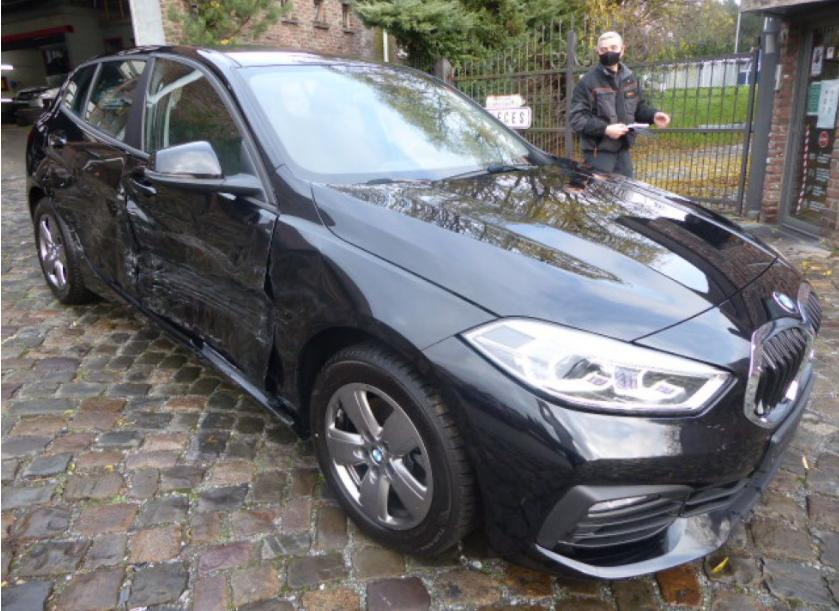Back-door: (42, 53, 153, 303)
Back-wheel: (33, 196, 103, 305)
Back-window: (85, 60, 147, 143), (64, 64, 97, 117)
Fender: (269, 164, 500, 422)
Front-bumper: (412, 250, 821, 580)
Front-door: (121, 52, 279, 391)
Front-wheel: (310, 336, 486, 556)
Front-window: (141, 58, 242, 175)
Grille: (744, 284, 822, 430)
Headlight: (457, 315, 735, 417)
Hood: (311, 154, 776, 342)
License-plate: (755, 374, 817, 472)
Mirror: (144, 138, 270, 203)
Quarter-panel: (26, 100, 77, 234)
Rocker-panel: (70, 231, 302, 438)
Roof: (190, 44, 428, 74)
Tail-light: (27, 125, 36, 143)
Windshield: (231, 65, 556, 184)
